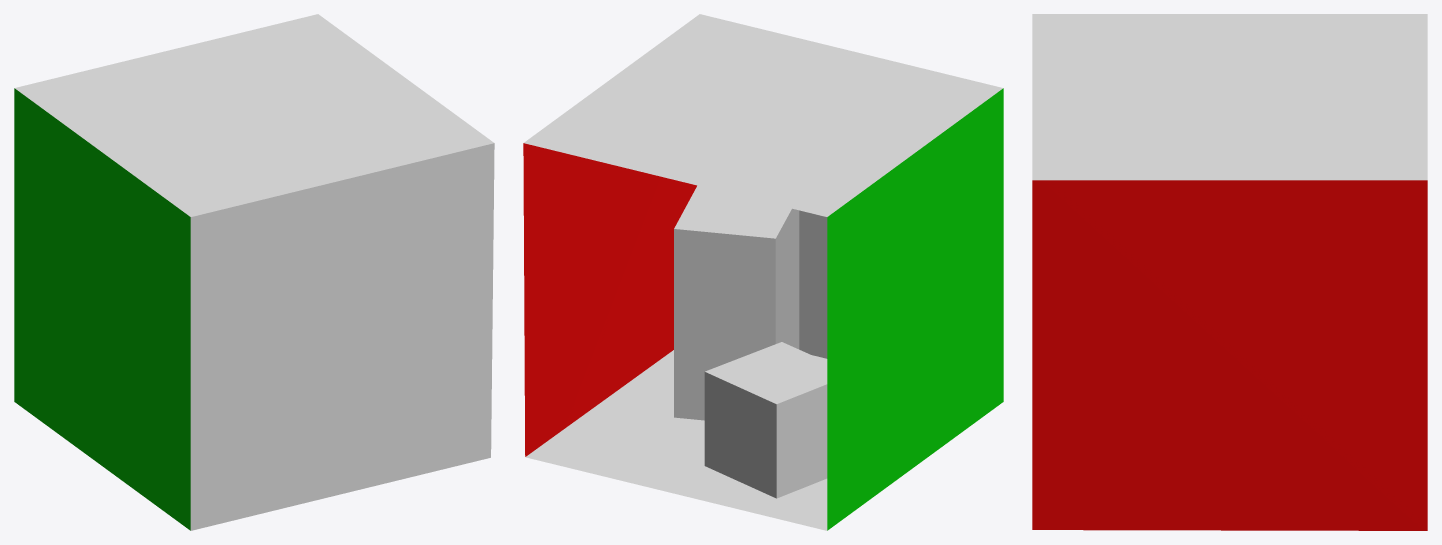
Rendered from cornell_box.glb.
The picture shows the model from 3 angles, left to right: view 1: azimuth 30°, elevation 25°; view 2: azimuth 150°, elevation 25°; view 3: azimuth 270°, elevation 25°; orthographic projection. The views are drawn at different scales.
Parts seen in each view (by area): view 1: cornell_box; view 2: cornell_box; view 3: cornell_box.
Boxes of the visible parts, box(x1,y1,x2,y2) form: cornell_box: box(14, 14, 494, 530); cornell_box: box(523, 14, 1003, 530); cornell_box: box(1032, 14, 1427, 530).
Bounding box in the file's own units: 55.6 × 54.88 × 55.92.
